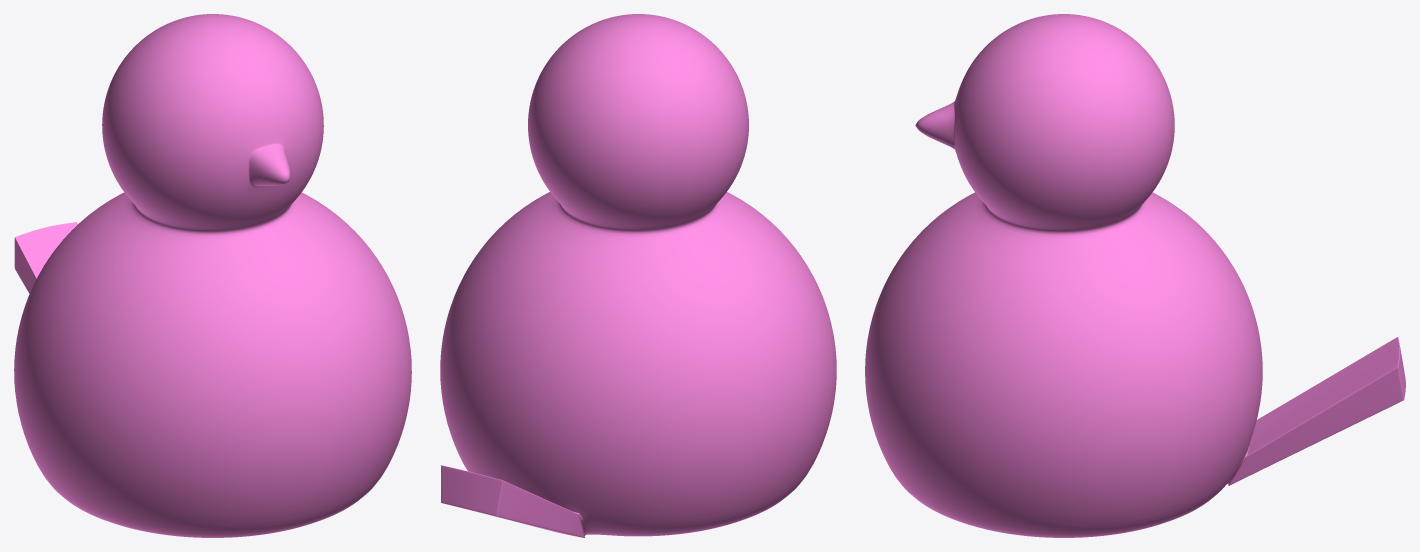
The model's file is Vanety Berd.fbx.
3 renders of one model, left to right at view 1: azimuth 30°, elevation 25°; view 2: azimuth 150°, elevation 25°; view 3: azimuth 270°, elevation 25°, orthographic.
Visible parts, largest first — view 1: Sphere; view 2: Sphere; view 3: Sphere.
Boxes of the visible parts, x1,y1,x2,y2 form: Sphere: (14,14,411,537); Sphere: (440,14,836,537); Sphere: (865,14,1405,537).
Size of the model in its own units: 12.03 by 14.97 by 16.36.
